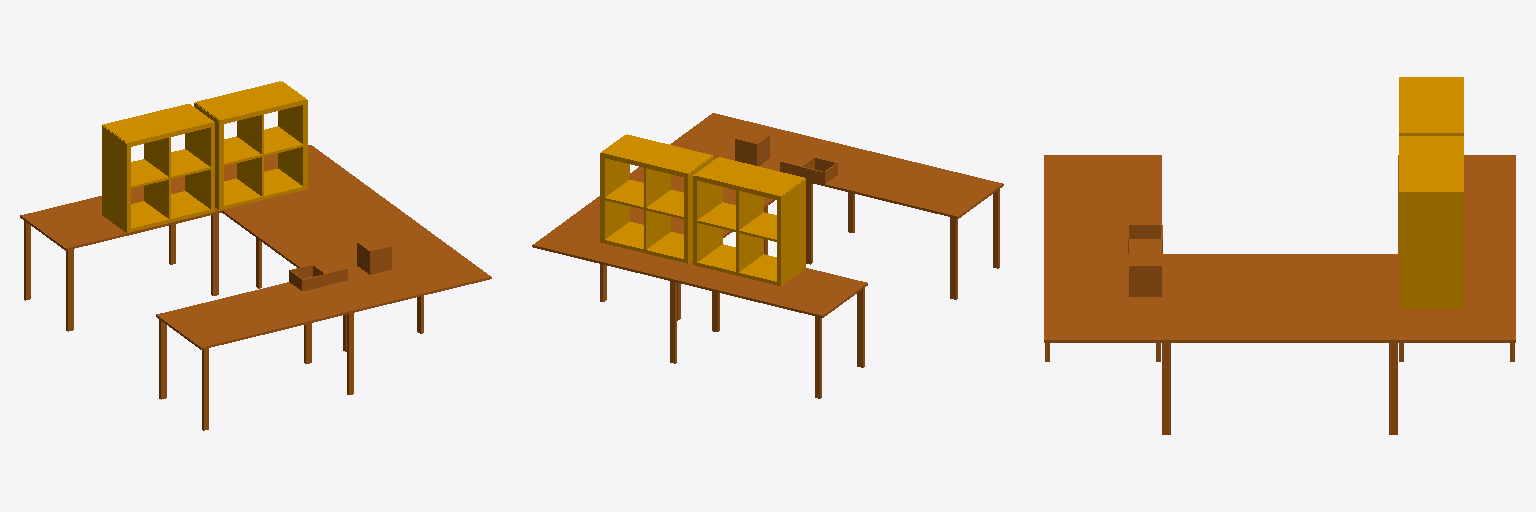
robot.urdf — table_universal:
<?xml version="1.0" ?>
<robot name="table_universal">
<material name="wood_brown">
  <color rgba="0.71 0.40 0.11 1.0"/>
</material>

  <link name="table_universal">
    <contact>
      <lateral_friction value="0.1"/>
    </contact>
    <inertial>
      <origin rpy="0.0001 0 0" xyz="0 0.0001 -0.72"/>
       <mass value="10.000"/>
       <inertia ixx="1" ixy="10" ixz="0" iyy="10" iyz="0" izz="10"/>
    </inertial>
                                                                        <!-- FRONT TABLE -->
    <visual>
      <origin rpy="0 0 0" xyz="0.5 0 -0.01"/>
      <geometry>
				<box size="1.2 1.4 0.02"/>
      </geometry>
     <material name="wood_brown"/>
    </visual>
    <collision>
      <origin rpy="0 0 0" xyz="0.5 0 -0.01"/>
      <geometry>
	 	    <box size="1.2 1.4 0.02"/>
      </geometry>
    </collision>
	<visual>
      <origin rpy="0.000 0 0" xyz="0.215 -0.675 -0.37"/>
      <geometry>
	    <box size="0.03 0.05 .7"/>
      </geometry>
	  <material name="wood_brown"/>	 
    </visual>
    <visual>
      <origin rpy="0.000 0 0" xyz="0.885 -0.675 -0.37"/>
      <geometry>
        <box size="0.03 0.05 .7"/>
      </geometry>
	  <material name="wood_brown"/>
	  </visual>
    <visual>
      <origin rpy="0.000 0 0" xyz="0.215 0.675 -0.37"/>
      <geometry>
        <box size="0.03 0.05 .7"/>
      </geometry>
	  <material name="wood_brown"/>
	  </visual>
    <visual>
      <origin rpy="0.000 0 0" xyz="0.885 0.675 -0.37"/>
      <geometry>
        <box size="0.03 0.05 .7"/>
      </geometry>
    <material name="wood_brown"/>
    </visual>
    
    <collision>
      <origin rpy="0.000 0 0" xyz="0.215 -0.675 -0.37"/>
      <geometry>
	    <box size="0.03 0.05 .7"/>
      </geometry>
    </collision>
    <collision>
      <origin rpy="0.000 0 0" xyz="0.885 -0.675 -0.37"/>
      <geometry>
        <box size="0.03 0.05 .7"/>
      </geometry>
	  </collision>
    <collision>
      <origin rpy="0.000 0 0" xyz="0.215 0.675 -0.37"/>
      <geometry>
        <box size="0.03 0.05 .7"/>
      </geometry>
	  </collision>
    <collision>
      <origin rpy="0.000 0 0" xyz="0.885 0.675 -0.37"/>
      <geometry>
        <box size="0.03 0.05 .7"/>
      </geometry>
    </collision>
                                                    <!-- LEFT TABLE -->
    <visual>
      <origin rpy="0 0 0" xyz="-0.2 1.05 -0.01"/>
      <geometry>
				<box size="2.6 0.7 0.02"/>
      </geometry>
       <material name="wood_brown">
      </material>
    </visual>
    <collision>
      <origin rpy="0 0 0" xyz="-0.2 1.05 -0.01"/>
      <geometry>
	 	    <box size="2.6 0.7 0.02"/>
      </geometry>
    </collision>
    <visual>
      <origin rpy="0.000 0 0" xyz="-0.15 0.72 -0.37"/>
      <geometry>
	    <box size="0.05 0.03 .7"/>
      </geometry>
	  <material name="wood_brown"/>	 
    </visual>
    <visual>
      <origin rpy="0.000 0 0" xyz="-0.15 1.38 -0.37"/>
      <geometry>
        <box size="0.05 0.03 .7"/>
      </geometry>
	  <material name="wood_brown"/>
	  </visual>
    <visual>
      <origin rpy="0.000 0 0" xyz="-1.45 0.72 -0.37"/>
      <geometry>
        <box size="0.05 0.03 .7"/>
      </geometry>
	  <material name="wood_brown"/>
	  </visual>
    <visual>
      <origin rpy="0.000 0 0" xyz="-1.45 1.38 -0.37"/>
      <geometry>
        <box size="0.05 0.03 .7"/>
      </geometry>
    <material name="wood_brown"/>
    </visual>
                                                                            <!-- LEFT CENTER SHELVE -->
    <visual>
      <origin rpy="0.000 0 0" xyz="-0.18 0.90 0.38"/>
      <geometry>
	    <box size="0.04 0.39 .77"/>
      </geometry>	 
    </visual>
    <collision>
      <origin rpy="0.000 0 0" xyz="-0.18 0.90 0.38"/>
      <geometry>
	    <box size="0.04 0.39 .77"/>
      </geometry>	 
    </collision>
    <visual>
      <origin rpy="0.000 0 0" xyz="-0.93 0.90 0.38"/>
      <geometry>
	    <box size="0.04 0.39 .77"/>
      </geometry>	 
    </visual>
    <collision>
      <origin rpy="0.000 0 0" xyz="-0.93 0.90 0.38"/>
      <geometry>
	    <box size="0.04 0.39 .77"/>
      </geometry>	 
    </collision>
    <visual>
      <origin rpy="0.000 0 0" xyz="-0.56 0.90 0.38"/>
      <geometry>
	    <box size="0.02 0.39 .77"/>
      </geometry>	 
    </visual>
    <collision>
      <origin rpy="0.000 0 0" xyz="-0.56 0.90 0.38"/>
      <geometry>
	    <box size="0.02 0.39 .77"/>
      </geometry>	 
    </collision>
    <visual>
      <origin rpy="0.000 0 0" xyz="-0.56 0.90 0.38"/>
      <geometry>
	    <box size="0.77 0.39 .02"/>
      </geometry>	 
    </visual>
    <collision>
      <origin rpy="0.000 0 0" xyz="-0.56 0.90 0.38"/>
      <geometry>
	    <box size="0.77 0.39 .02"/>
      </geometry>	 
    </collision>
    <visual>
      <origin rpy="0.000 0 0" xyz="-0.56 0.90 0.75"/>
      <geometry>
	    <box size="0.77 0.39 .04"/>
      </geometry>	 
    </visual>
    <collision>
      <origin rpy="0.000 0 0" xyz="-0.56 0.90 0.75"/>
      <geometry>
	    <box size="0.77 0.39 .04"/>
      </geometry>	 
    </collision>
    <visual>
      <origin rpy="0.000 0 0" xyz="-0.56 0.90 0.01"/>
      <geometry>
	    <box size="0.77 0.39 .04"/>
      </geometry>	 
    </visual>
    <collision>
      <origin rpy="0.000 0 0" xyz="-0.56 0.90 0.01"/>
      <geometry>
	    <box size="0.77 0.39 .04"/>
      </geometry>	 
    </collision>
                                                                            <!-- LEFT FRONT SHELVE -->
    <visual>
      <origin rpy="0.000 0 0" xyz="0.65 0.90 0.38"/>
      <geometry>
	    <box size="0.04 0.39 .77"/>
      </geometry>	 
    </visual>
    <collision>
      <origin rpy="0.000 0 0" xyz="0.65 0.90 0.38"/>
      <geometry>
	    <box size="0.04 0.39 .77"/>
      </geometry>	 
    </collision>
    <visual>
      <origin rpy="0.000 0 0" xyz="-0.10 0.90 0.38"/>
      <geometry>
	    <box size="0.04 0.39 .77"/>
      </geometry>	 
    </visual>
    <collision>
      <origin rpy="0.000 0 0" xyz="-0.10 0.90 0.38"/>
      <geometry>
	    <box size="0.04 0.39 .77"/>
      </geometry>	 
    </collision>
    <visual>
      <origin rpy="0.000 0 0" xyz="0.27 0.90 0.38"/>
      <geometry>
	    <box size="0.02 0.39 .77"/>
      </geometry>	 
    </visual>
    <collision>
      <origin rpy="0.000 0 0" xyz="0.27 0.90 0.38"/>
      <geometry>
	    <box size="0.02 0.39 .77"/>
      </geometry>	 
    </collision>
    <visual>
      <origin rpy="0.000 0 0" xyz="0.27 0.90 0.38"/>
      <geometry>
	    <box size="0.77 0.39 .02"/>
      </geometry>	 
    </visual>
    <collision>
      <origin rpy="0.000 0 0" xyz="0.27 0.90 0.38"/>
      <geometry>
	    <box size="0.77 0.39 .02"/>
      </geometry>	 
    </collision>
    <visual>
      <origin rpy="0.000 0 0" xyz="0.27 0.90 0.75"/>
      <geometry>
	    <box size="0.77 0.39 .04"/>
      </geometry>	 
    </visual>
    <collision>
      <origin rpy="0.000 0 0" xyz="0.27 0.90 0.75"/>
      <geometry>
	    <box size="0.77 0.39 .04"/>
      </geometry>	 
    </collision>
    <visual>
      <origin rpy="0.000 0 0" xyz="0.27 0.90 0.01"/>
      <geometry>
	    <box size="0.77 0.39 .04"/>
      </geometry>	 
    </visual>
    <collision>
      <origin rpy="0.000 0 0" xyz="0.27 0.90 0.01"/>
      <geometry>
	    <box size="0.77 0.39 .04"/>
      </geometry>	 
    </collision>
                                                   <!-- RIGHT TABLE -->
    <visual>
      <origin rpy="0 0 0" xyz="-0.2 -1.05 -0.01"/>
      <geometry>
				<box size="2.6 0.7 0.02"/>
      </geometry>
       <material name="wood_brown">
      </material>
    </visual>
    <collision>
      <origin rpy="0 0 0" xyz="-0.2 -1.05 -0.01"/>
      <geometry>
	 	    <box size="2.6 0.7 0.02"/>
      </geometry>
    </collision>
    <visual>
      <origin rpy="0.000 0 0" xyz="-0.15 -0.72 -0.37"/>
      <geometry>
	    <box size="0.05 0.03 .7"/>
      </geometry>
	  <material name="wood_brown"/>	 
    </visual>
    <visual>
      <origin rpy="0.000 0 0" xyz="-0.15 -1.38 -0.37"/>
      <geometry>
        <box size="0.05 0.03 .7"/>
      </geometry>
	  <material name="wood_brown"/>
	  </visual>
    <visual>
      <origin rpy="0.000 0 0" xyz="-1.45 -0.72 -0.37"/>
      <geometry>
        <box size="0.05 0.03 .7"/>
      </geometry>
	  <material name="wood_brown"/>
	  </visual>
    <visual>
      <origin rpy="0.000 0 0" xyz="-1.45 -1.38 -0.37"/>
      <geometry>
        <box size="0.05 0.03 .7"/>
      </geometry>
    <material name="wood_brown"/>
    </visual>
                                                       <!-- RIGHT BOXES -->
     <visual>
      <origin rpy="0 0 0" xyz="0.4 -0.8 0.10"/>
      <geometry>
				<box size="0.2 0.2 0.2"/>
      </geometry>
       <material name="wood_brown">
      </material>
    </visual>
    <collision>
      <origin rpy="0 0 0" xyz="0.4 -0.8 0.10"/>
      <geometry>
	 	    <box size="0.2 0.2 0.2"/>
      </geometry>
    </collision>
    <visual>
      <origin rpy="0 0 0" xyz="0.0 -0.8 0.05"/>
      <geometry>
				<box size="0.2 0.2 0.1"/>
      </geometry>
       <material name="wood_brown">
      </material>
    </visual>
    <collision>
      <origin rpy="0 0 0" xyz="0.0 -0.8 0.05"/>
      <geometry>
	 	    <box size="0.2 0.2 0.1"/>
      </geometry>
    </collision>
     <visual>
      <origin rpy="0 0 0" xyz="-0.2 -0.70 0.05"/>
      <geometry>
				<box size="0.2 0.01 0.1"/>
      </geometry>
       <material name="wood_brown">
      </material>
    </visual>
    <collision>
      <origin rpy="0 0 0" xyz="-0.2 -0.70 0.05"/>
      <geometry>
	 	    <box size="0.2 0.01 0.1"/>
      </geometry>
    </collision>
       <visual>
      <origin rpy="0 0 0" xyz="-0.2 -0.9 0.05"/>
      <geometry>
				<box size="0.2 0.01 0.1"/>
      </geometry>
       <material name="wood_brown">
      </material>
    </visual>
    <collision>
      <origin rpy="0 0 0" xyz="-0.2 -0.9 0.05"/>
      <geometry>
	 	    <box size="0.2 0.01 0.1"/>
      </geometry>
    </collision>
           <visual>
      <origin rpy="0 0 0" xyz="-0.30 -0.8 0.05"/>
      <geometry>
				<box size="0.01 0.2 0.1"/>
      </geometry>
       <material name="wood_brown">
      </material>
    </visual>
    <collision>
      <origin rpy="0 0 0" xyz="-0.30 -0.8 0.05"/>
      <geometry>
	 	    <box size="0.01 0.2 0.1"/>
      </geometry>
    </collision>
    

</link>
</robot>

--- Facts derived from the render (not from the file) ---
The picture shows the robot from 3 angles, left to right: view 1: azimuth 30°, elevation 25°; view 2: azimuth 150°, elevation 25°; view 3: azimuth 270°, elevation 25°; orthographic projection.
Robot: table_universal — 1 links, 0 joints (none); root link table_universal; default pose: all joints at 0.
Visible links, largest first — view 1: table_universal; view 2: table_universal; view 3: table_universal.
Link boxes in pixels (bbox=[...]): table_universal: bbox=[20, 81, 491, 430]; table_universal: bbox=[532, 113, 1003, 398]; table_universal: bbox=[1044, 77, 1515, 434].
Size in the robot's own frame: 2.6 by 2.8 by 1.49 metres.
Geometry: primitives only (box / cylinder / sphere), no mesh files.
